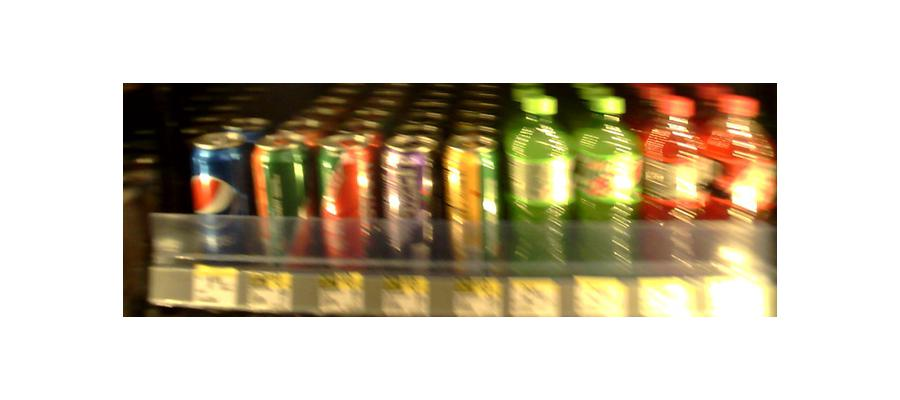bottle: (506, 91, 571, 267), (573, 94, 637, 265), (443, 116, 502, 270), (643, 102, 694, 269), (380, 131, 438, 267), (320, 135, 374, 264), (249, 137, 304, 263), (187, 127, 242, 252)
